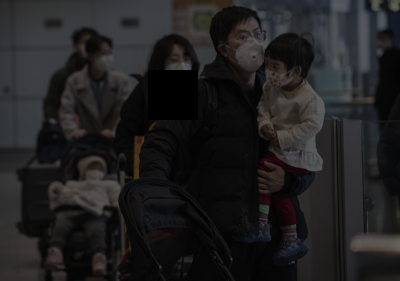with_mask: (229, 24, 265, 71), (167, 50, 193, 83), (265, 57, 289, 89), (96, 44, 117, 73), (84, 162, 106, 182)
